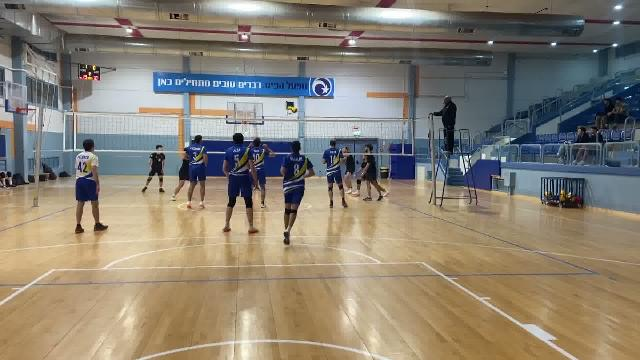ball: (290, 104, 301, 116)
